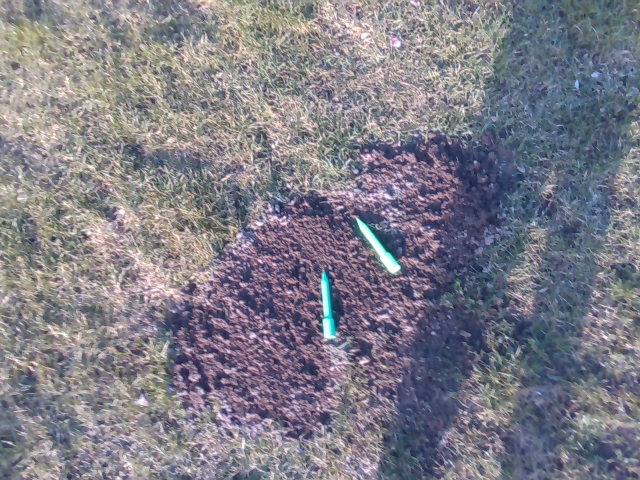Probe: (354, 213, 406, 279), (318, 266, 338, 343)
